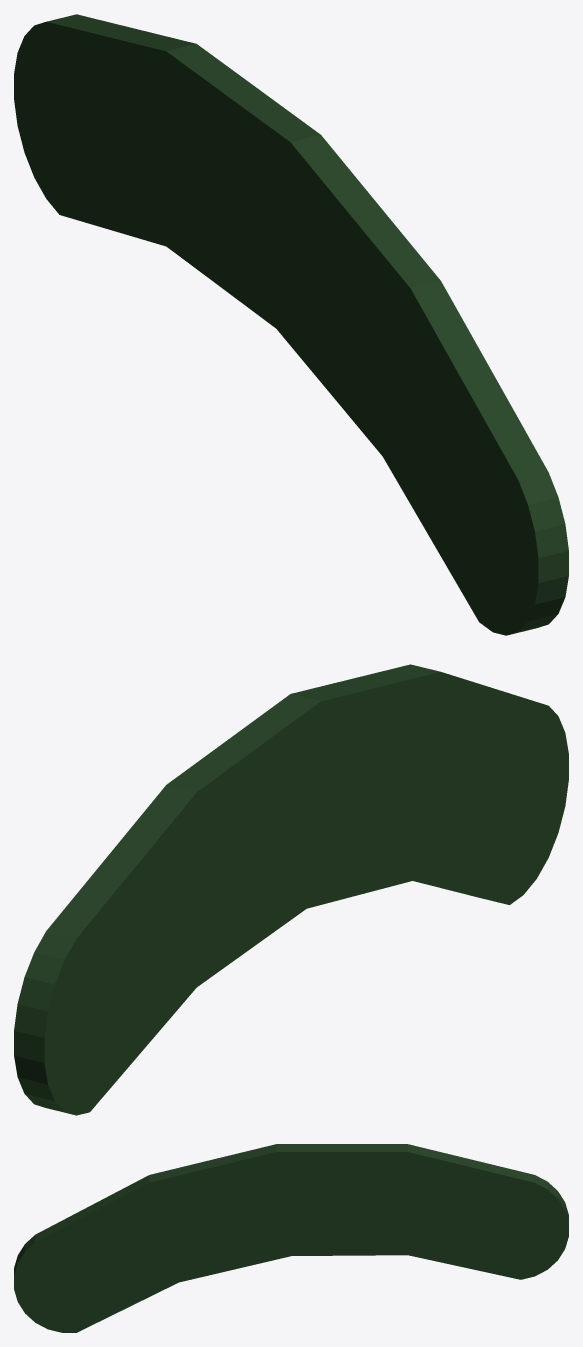
The model's file is ant_link2Leg_2_vis_1.dae.
3 renders of one model, top to bottom at view 1: azimuth 30°, elevation 25°; view 2: azimuth 150°, elevation 25°; view 3: azimuth 270°, elevation 25°, orthographic. The views are drawn at different scales.
Parts seen in each view (by area): view 1: node; view 2: node; view 3: node.
Boxes of the visible parts, left/top/right/bottom form: node: left=14, top=14, right=568, bottom=635; node: left=14, top=664, right=568, bottom=1115; node: left=14, top=1144, right=568, bottom=1332.
Size of the model in its own units: 0.003 by 0.0321 by 0.0893.
